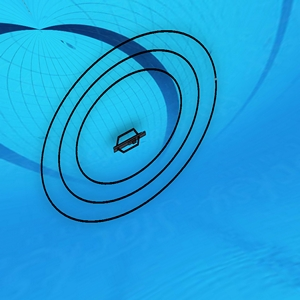circle: (28, 19, 219, 240)
submarine: (114, 129, 148, 157)
